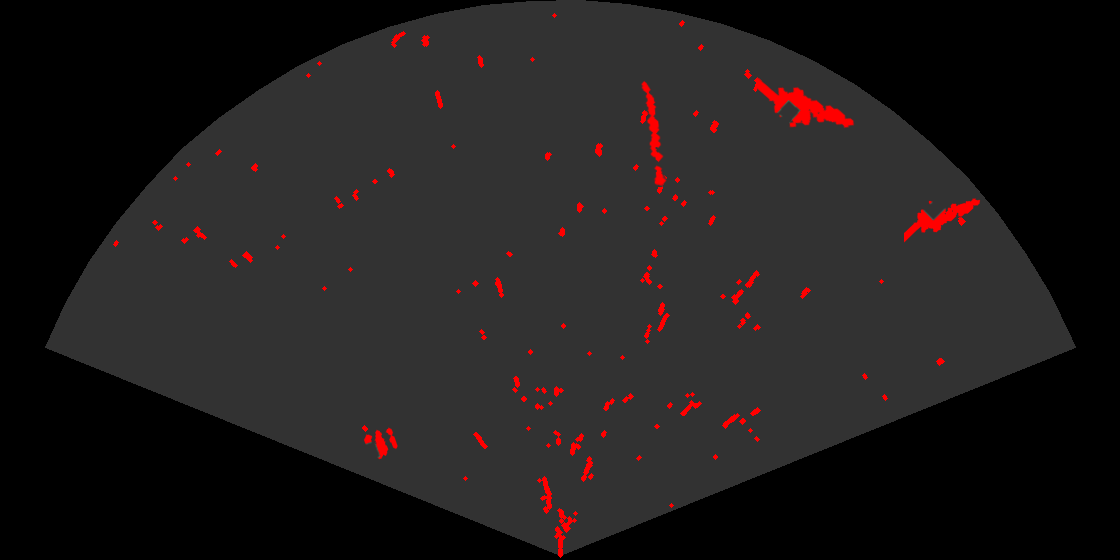ball: (362, 426, 399, 461)
chain: (640, 79, 668, 187)
frogman: (757, 76, 856, 130), (904, 197, 982, 244)
